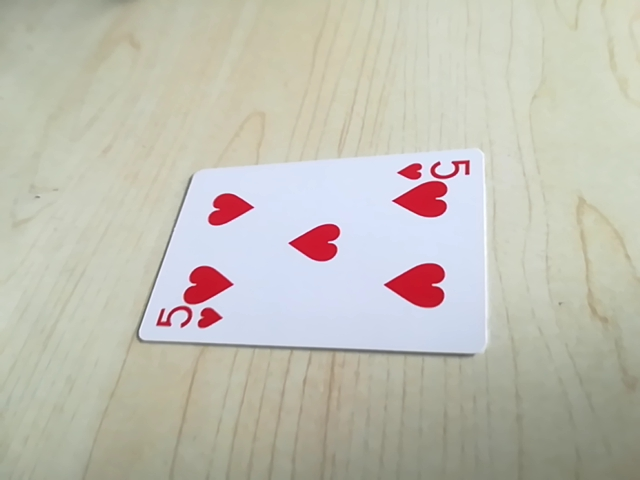hx 5: (150, 302, 226, 336), (393, 154, 473, 185)
